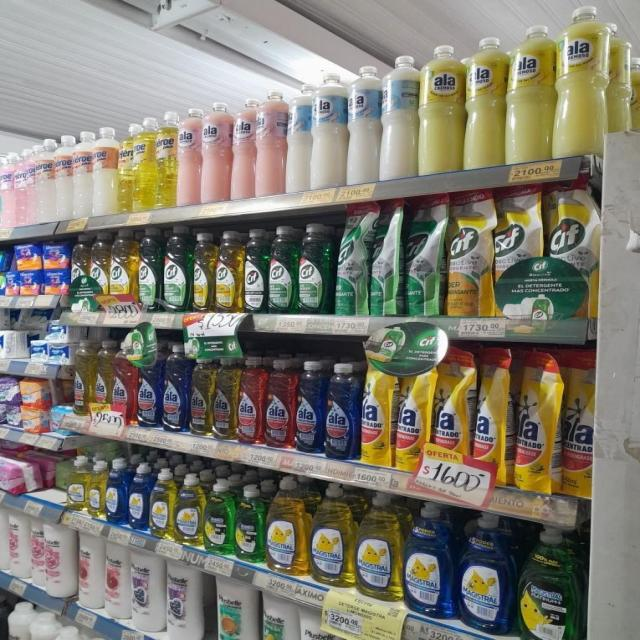ala_conc_amarillo: (214, 356, 237, 441), (190, 352, 213, 437), (94, 339, 112, 426), (74, 339, 93, 419)
ala_conc_azul: (325, 362, 359, 460), (295, 360, 324, 454), (162, 342, 189, 433), (136, 342, 162, 429)
ala_conc_rojo: (265, 358, 294, 449), (238, 356, 264, 445), (112, 340, 136, 428)
ala_crem_amarillo: (556, 5, 609, 158), (508, 24, 554, 164), (419, 44, 464, 176), (464, 36, 506, 169)
ala_crem_blanco: (310, 70, 346, 190), (347, 66, 379, 184)
ala_crem_rosado: (255, 92, 284, 198), (201, 102, 230, 204), (231, 99, 255, 200), (177, 107, 199, 206)
ala_sachet_amarillo: (514, 349, 560, 493), (428, 346, 470, 478), (472, 349, 508, 487), (561, 348, 594, 498), (360, 361, 394, 467), (394, 370, 428, 471)
cif_conc_bot_amarilla: (215, 230, 242, 313), (110, 229, 136, 314), (192, 231, 215, 313), (89, 232, 109, 304), (70, 233, 89, 301)
cif_conc_botella_verde: (297, 223, 332, 314), (268, 225, 296, 314), (162, 226, 190, 312), (138, 227, 162, 313), (244, 228, 267, 314)
cif_conc_sachet_amarillo: (545, 181, 597, 321), (494, 184, 544, 320), (446, 190, 492, 317)
cif_conc_sachet_verde: (334, 209, 367, 316)
magistral_con_amarillo: (356, 491, 400, 601), (309, 483, 354, 587), (266, 477, 307, 575), (175, 472, 203, 546), (150, 468, 174, 538), (66, 456, 88, 512), (88, 459, 105, 518)
magistral_con_azul: (457, 512, 513, 634), (403, 501, 453, 618), (128, 463, 149, 531), (106, 459, 127, 524)
magistral_con_verde: (235, 483, 265, 565), (205, 478, 233, 554)
